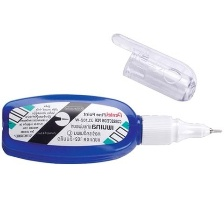correction_fluid: (0, 93, 224, 167)
